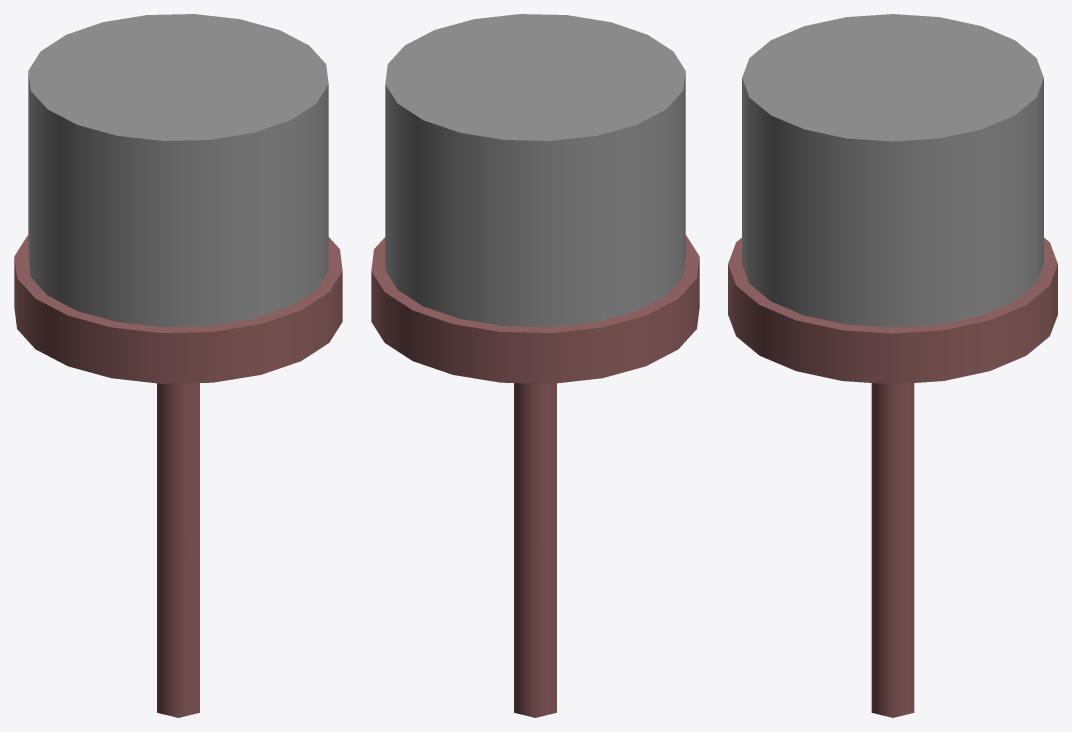
Rendered from flasher.FBX.
The picture shows the model from 3 angles, left to right: view 1: azimuth 30°, elevation 25°; view 2: azimuth 150°, elevation 25°; view 3: azimuth 270°, elevation 25°; orthographic projection.
Visible parts, largest first — view 1: Cylinder008, Cylinder009; view 2: Cylinder008, Cylinder009; view 3: Cylinder008, Cylinder009.
Boxes of the visible parts, left/top/right/bottom form: Cylinder008: left=28, top=14, right=328, bottom=327; Cylinder009: left=14, top=235, right=342, bottom=717; Cylinder008: left=385, top=14, right=685, bottom=327; Cylinder009: left=371, top=235, right=699, bottom=717; Cylinder008: left=742, top=14, right=1043, bottom=327; Cylinder009: left=728, top=238, right=1057, bottom=717.
Size of the model in its own units: 0.2353 by 0.4954 by 0.2353.
